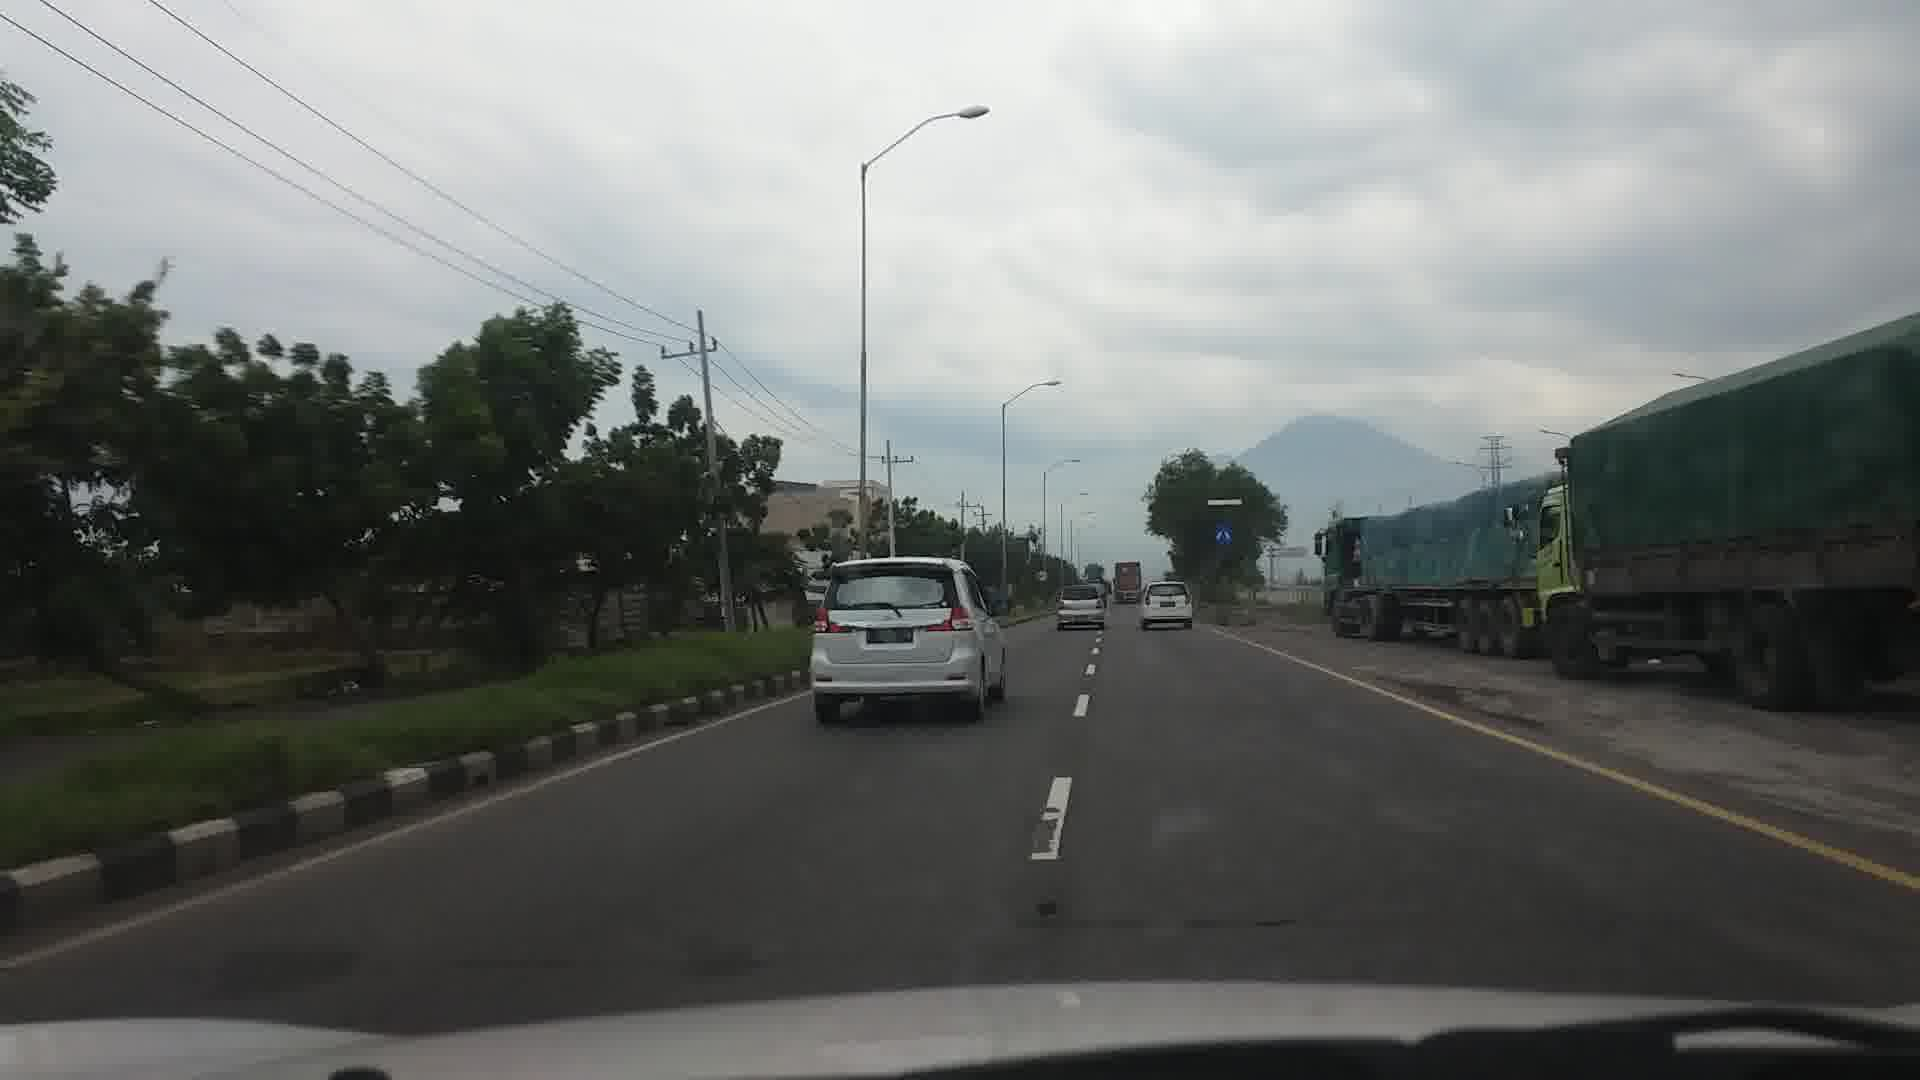plate_positive: (866, 629, 913, 644)
